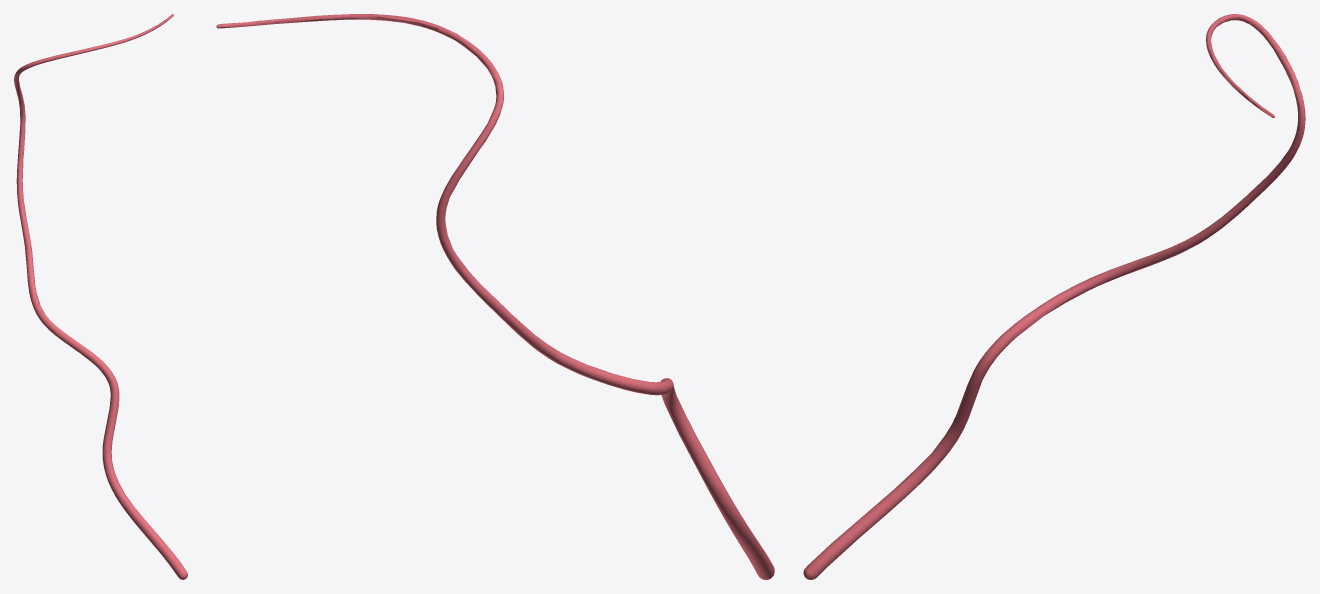
The model's file is fma50358_fj1696m.glb.
3 renders of one model, left to right at view 1: azimuth 30°, elevation 25°; view 2: azimuth 150°, elevation 25°; view 3: azimuth 270°, elevation 25°, orthographic. The views are drawn at different scales.
Parts seen in each view (by area): view 1: FMA50358_FJ1696M; view 2: FMA50358_FJ1696M; view 3: FMA50358_FJ1696M.
Boxes of the visible parts, left/top/right/bottom form: FMA50358_FJ1696M: left=14, top=14, right=187, bottom=579; FMA50358_FJ1696M: left=216, top=14, right=774, bottom=579; FMA50358_FJ1696M: left=803, top=14, right=1305, bottom=579.
Size of the model in its own units: 0.0251 by 0.0509 by 0.0397.
